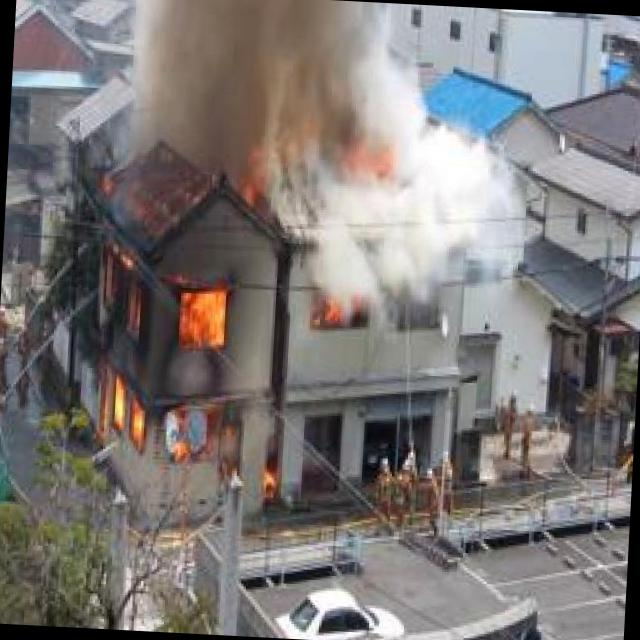Fire: (78, 229, 297, 511), (314, 289, 382, 334)
Smoke: (78, 229, 297, 511), (314, 288, 372, 332)
